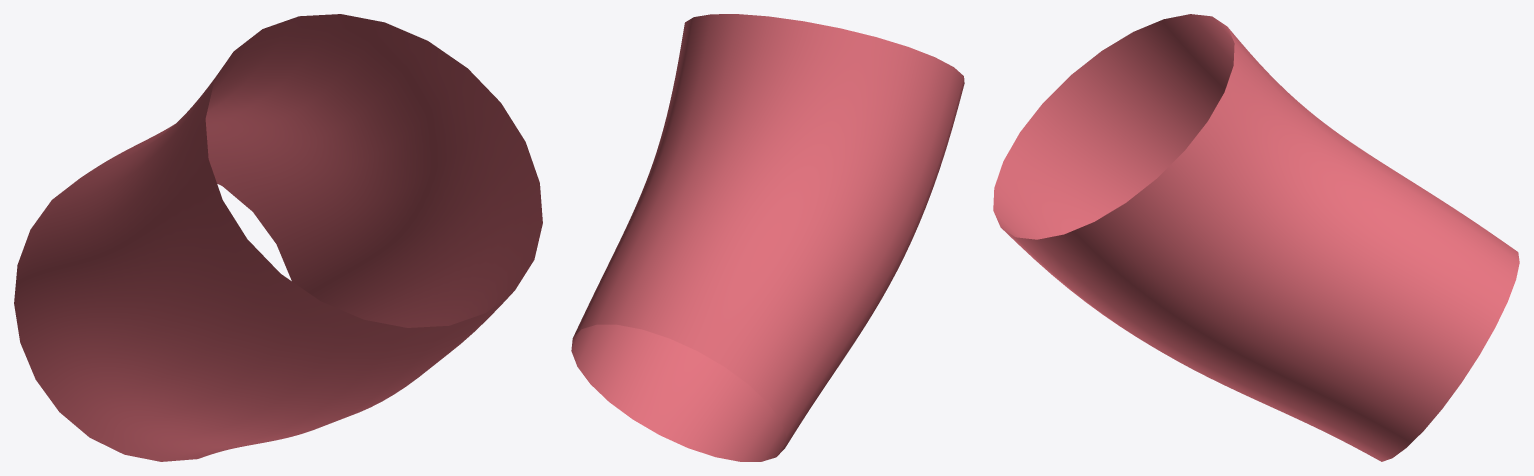
3 views of the same model, side by side, from view 1: azimuth 30°, elevation 25°; view 2: azimuth 150°, elevation 25°; view 3: azimuth 270°, elevation 25° (orthographic). The views are drawn at different scales.
Parts seen in each view (by area): view 1: ZA_a1ab43fe24c47492; view 2: ZA_a1ab43fe24c47492; view 3: ZA_a1ab43fe24c47492.
Boxes of the visible parts, left/top/right/bottom form: ZA_a1ab43fe24c47492: left=14, top=14, right=542, bottom=461; ZA_a1ab43fe24c47492: left=571, top=14, right=964, bottom=461; ZA_a1ab43fe24c47492: left=993, top=14, right=1519, bottom=461.
Size of the model in its own units: 0.00583 by 0.00858 by 0.00996.
